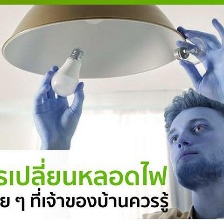light_bulb: (48, 41, 87, 100), (170, 36, 211, 68)
